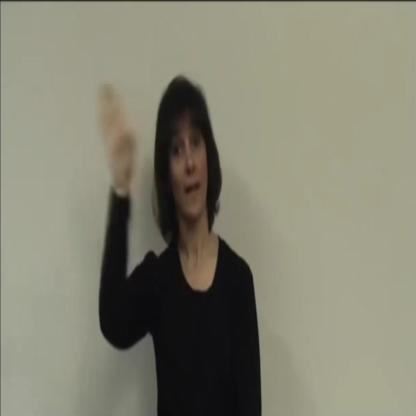Hello: (78, 49, 225, 245)
